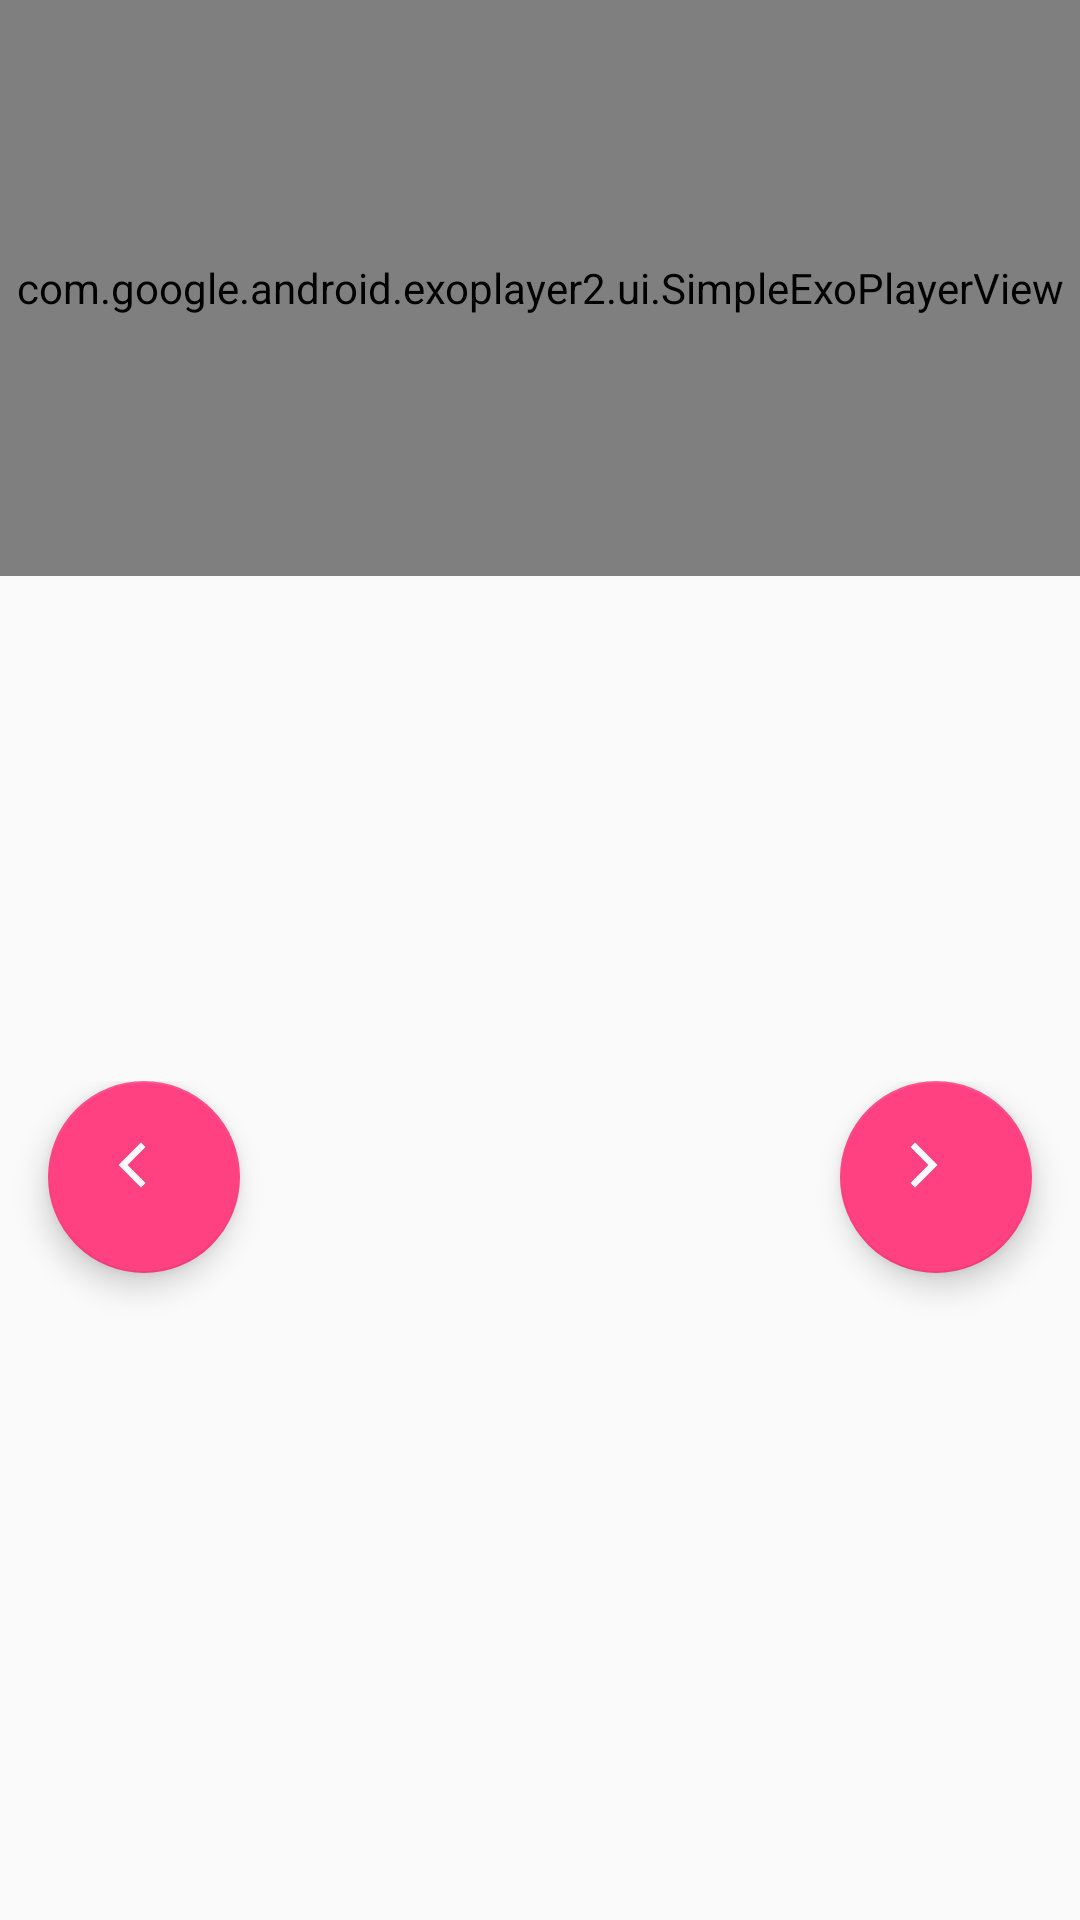

Where to tap for icons on this 1080×1920 app screen, as (x=x, y=y):
back: (x=144, y=1177)
forward: (x=936, y=1177)
